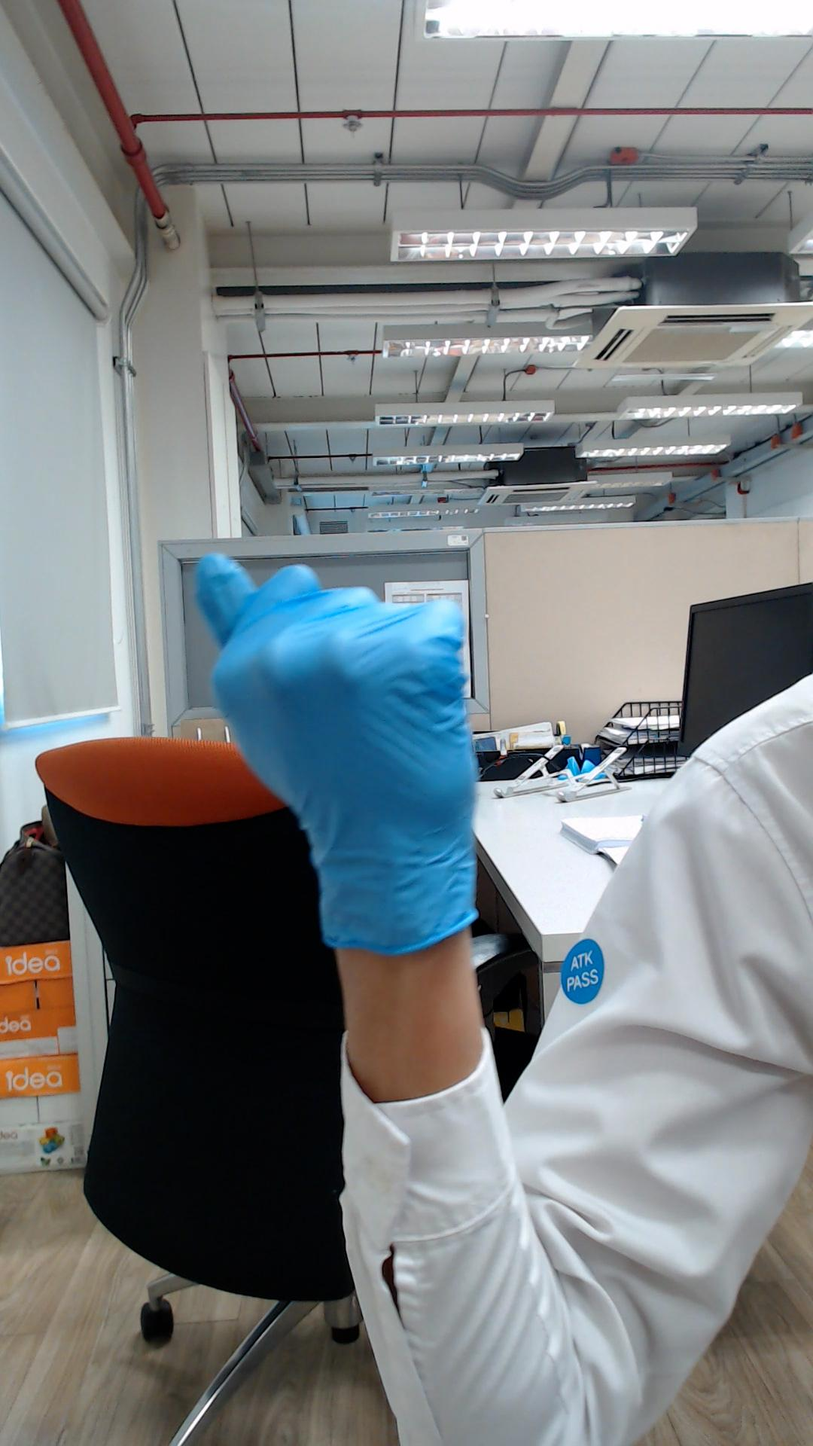gloves: (174, 540, 514, 826)
